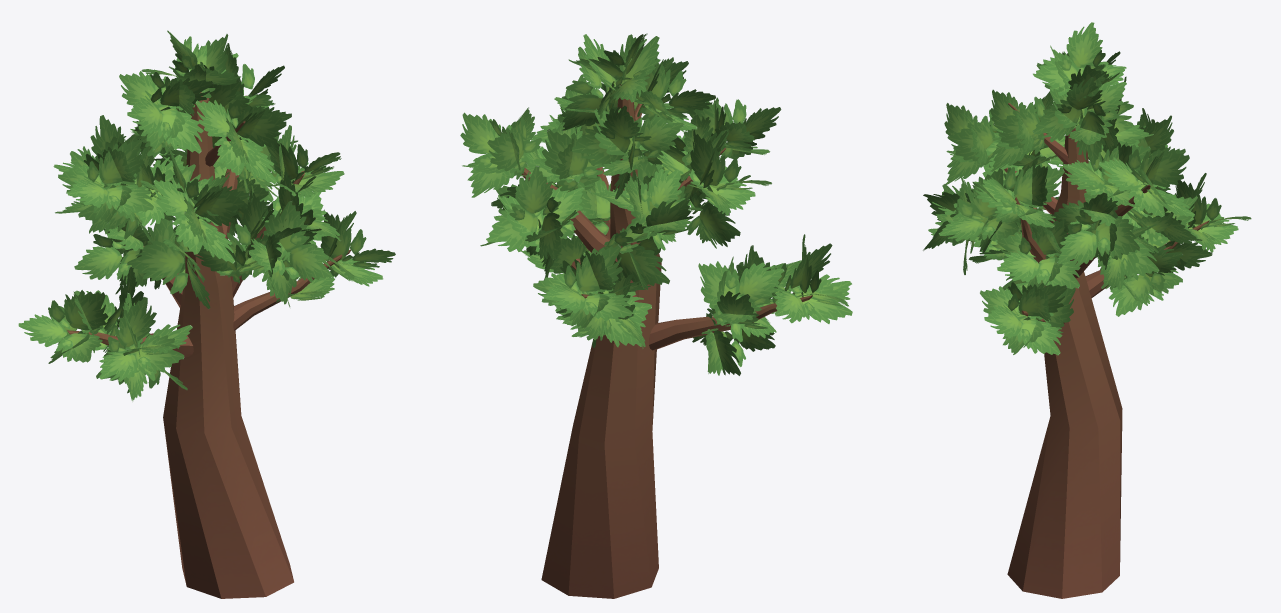
The model's file is tree.fbx.
3 views of the same model, side by side, from view 1: azimuth 30°, elevation 25°; view 2: azimuth 150°, elevation 25°; view 3: azimuth 270°, elevation 25° (orthographic). The views are drawn at different scales.
Parts seen in each view (by area): view 1: tree; view 2: tree; view 3: tree.
Part boxes in pixels (box(x1,y1,x2,y2)): tree: box(18, 30, 395, 598); tree: box(460, 33, 852, 598); tree: box(923, 22, 1251, 598).
Bounding box in the file's own units: 7.47 × 10.36 × 6.37.
Materials: 1 (1 with a texture image).
